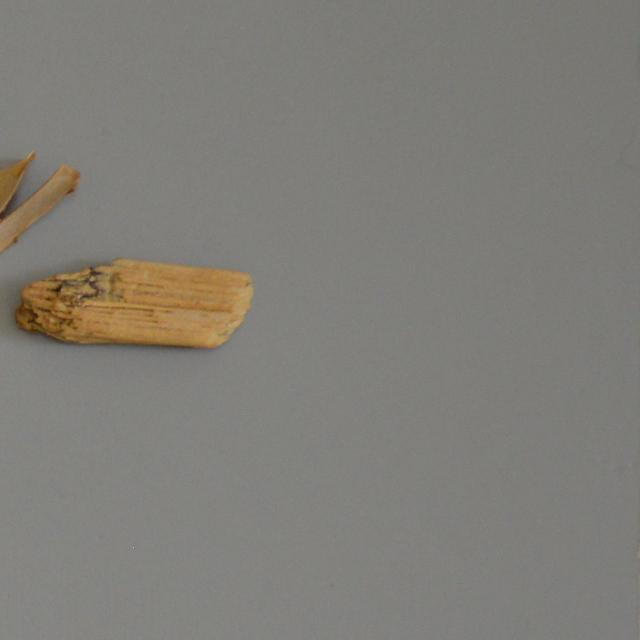cuerpos_extranos: (14, 248, 257, 352), (0, 140, 79, 280)
